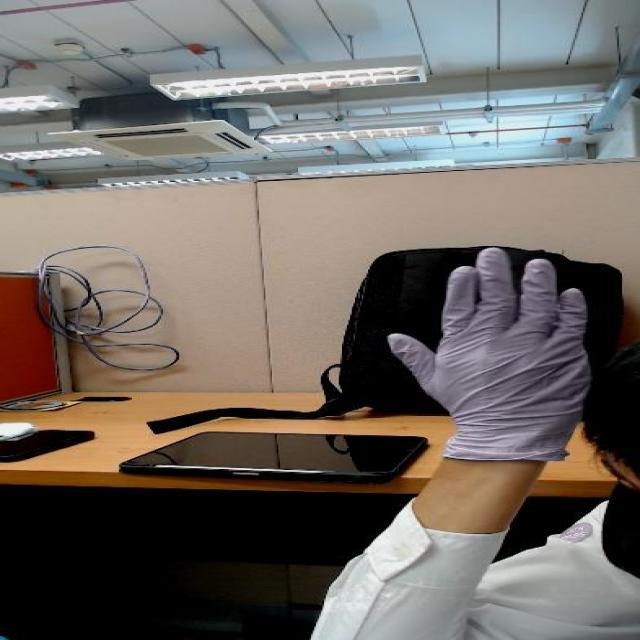with_gloves: (381, 242, 619, 407)
